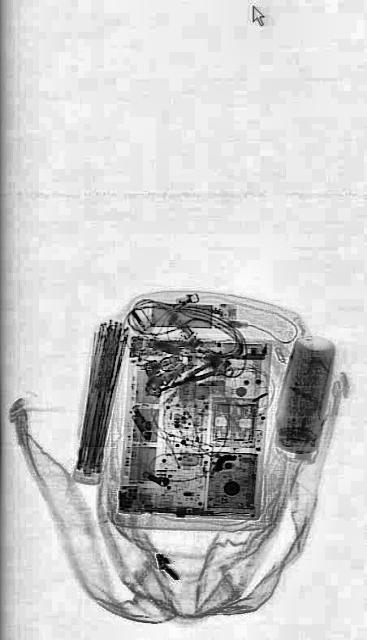Pliers: (168, 356, 218, 396)
